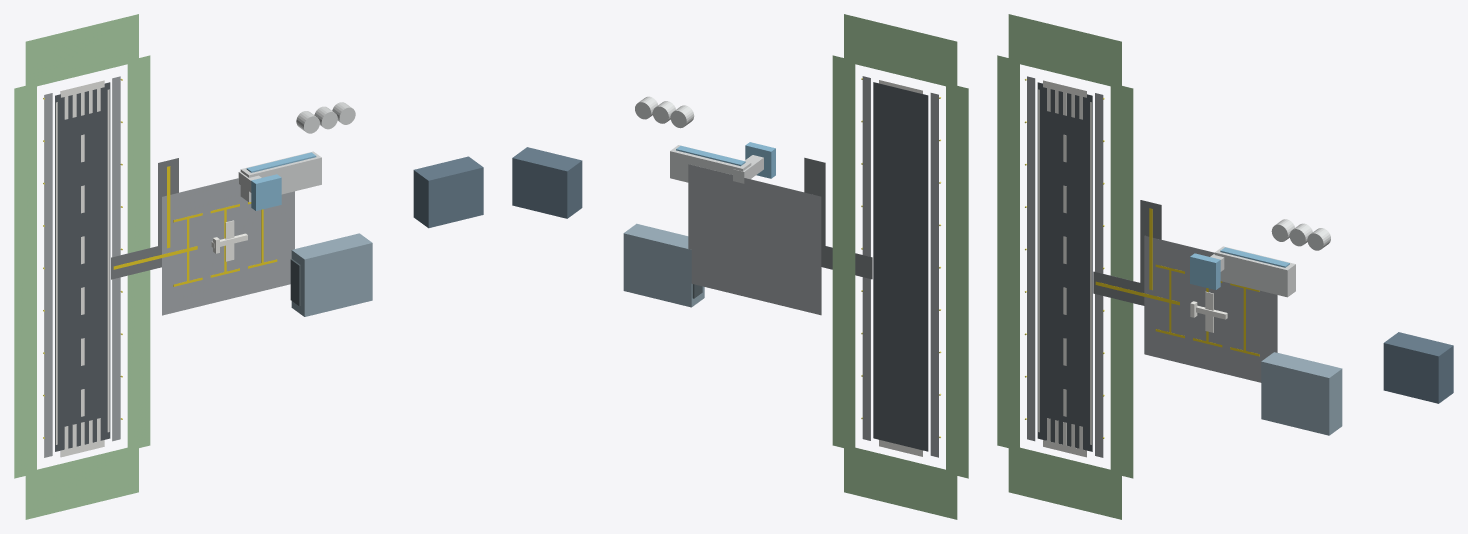
The model's file is compact_airport.glb.
3 views of the same model, side by side, from view 1: azimuth 30°, elevation 25°; view 2: azimuth 150°, elevation 25°; view 3: azimuth 330°, elevation 25° (orthographic).
Visible parts, largest first — view 1: V7_AIRPORT_RUNWAY_09_27_MAIN, V7_AIRPORT_APRON_MAIN_GRAY, Final_Airport_Cleanup_Clear_Grass_Left, Final_Airport_Cleanup_Clear_Grass_Right, Final_Airport_Cleanup_Approach_09, Final_Airport_Cleanup_Approach_27, V7_AIRPORT_HANGAR, HOME_Small_Hangar, V7_AIRPORT_RUNWAY_LEFT_SHOULDER, V7_AIRPORT_RUNWAY_RIGHT_SHOULDER, V7_AIRPORT_TERMINAL_MAIN, V7_AIRPORT_TAXIWAY_CONNECTOR (+4 smaller); view 2: V7_AIRPORT_RUNWAY_09_27_MAIN, V7_AIRPORT_APRON_MAIN_GRAY, Final_Airport_Cleanup_Clear_Grass_Right, Final_Airport_Cleanup_Clear_Grass_Left, Final_Airport_Cleanup_Approach_27, Final_Airport_Cleanup_Approach_09, V7_AIRPORT_HANGAR, HOME_Small_Hangar, V7_AIRPORT_RUNWAY_LEFT_SHOULDER, V7_AIRPORT_RUNWAY_RIGHT_SHOULDER, V7_AIRPORT_TERMINAL_MAIN, V7_AIRPORT_TAXIWAY_CURVE_A (+2 smaller); view 3: V7_AIRPORT_RUNWAY_09_27_MAIN, V7_AIRPORT_APRON_MAIN_GRAY, Final_Airport_Cleanup_Clear_Grass_Left, Final_Airport_Cleanup_Clear_Grass_Right, V7_AIRPORT_HANGAR, Final_Airport_Cleanup_Approach_09, Final_Airport_Cleanup_Approach_27, HOME_Small_Hangar, V7_AIRPORT_RUNWAY_LEFT_SHOULDER, V7_AIRPORT_RUNWAY_RIGHT_SHOULDER, V7_AIRPORT_TERMINAL_MAIN, V7_AIRPORT_TAXIWAY_CONNECTOR (+4 smaller).
Boxes of the visible parts, box(x1,y1,x2,y2) form: V7_AIRPORT_RUNWAY_09_27_MAIN: box(55, 82, 110, 451); V7_AIRPORT_APRON_MAIN_GRAY: box(162, 178, 294, 315); Final_Airport_Cleanup_Clear_Grass_Left: box(14, 83, 36, 478); Final_Airport_Cleanup_Clear_Grass_Right: box(127, 55, 150, 449); Final_Airport_Cleanup_Approach_09: box(25, 445, 138, 519); Final_Airport_Cleanup_Approach_27: box(25, 14, 138, 88); V7_AIRPORT_HANGAR: box(291, 233, 372, 316); HOME_Small_Hangar: box(413, 156, 483, 228); V7_AIRPORT_RUNWAY_LEFT_SHOULDER: box(44, 93, 52, 457); V7_AIRPORT_RUNWAY_RIGHT_SHOULDER: box(112, 76, 120, 441); V7_AIRPORT_TERMINAL_MAIN: box(240, 151, 321, 202); V7_AIRPORT_TAXIWAY_CONNECTOR: box(111, 245, 161, 279); V7_AIRPORT_RUNWAY_09_27_MAIN: box(873, 82, 928, 451); V7_AIRPORT_APRON_MAIN_GRAY: box(688, 164, 821, 315); Final_Airport_Cleanup_Clear_Grass_Right: box(832, 55, 855, 450); Final_Airport_Cleanup_Clear_Grass_Left: box(946, 83, 968, 478); Final_Airport_Cleanup_Approach_27: box(844, 14, 957, 88); Final_Airport_Cleanup_Approach_09: box(844, 445, 957, 519); V7_AIRPORT_HANGAR: box(623, 223, 704, 307); HOME_Small_Hangar: box(512, 147, 582, 218); V7_AIRPORT_RUNWAY_LEFT_SHOULDER: box(930, 92, 938, 457); V7_AIRPORT_RUNWAY_RIGHT_SHOULDER: box(862, 76, 870, 440); V7_AIRPORT_TERMINAL_MAIN: box(670, 145, 751, 182); V7_AIRPORT_TAXIWAY_CURVE_A: box(804, 157, 825, 245); V7_AIRPORT_RUNWAY_09_27_MAIN: box(1037, 82, 1092, 451); V7_AIRPORT_APRON_MAIN_GRAY: box(1144, 235, 1277, 382); Final_Airport_Cleanup_Clear_Grass_Left: box(997, 55, 1019, 448); Final_Airport_Cleanup_Clear_Grass_Right: box(1110, 86, 1133, 478); V7_AIRPORT_HANGAR: box(1261, 352, 1342, 435); Final_Airport_Cleanup_Approach_09: box(1008, 445, 1121, 519); Final_Airport_Cleanup_Approach_27: box(1008, 14, 1121, 88); HOME_Small_Hangar: box(1383, 332, 1453, 403); V7_AIRPORT_RUNWAY_LEFT_SHOULDER: box(1027, 76, 1035, 441); V7_AIRPORT_RUNWAY_RIGHT_SHOULDER: box(1095, 93, 1103, 457); V7_AIRPORT_TERMINAL_MAIN: box(1214, 246, 1295, 297); V7_AIRPORT_TAXIWAY_CONNECTOR: box(1093, 271, 1144, 305).
Size of the model in its own units: 281 by 282 by 27.16.
